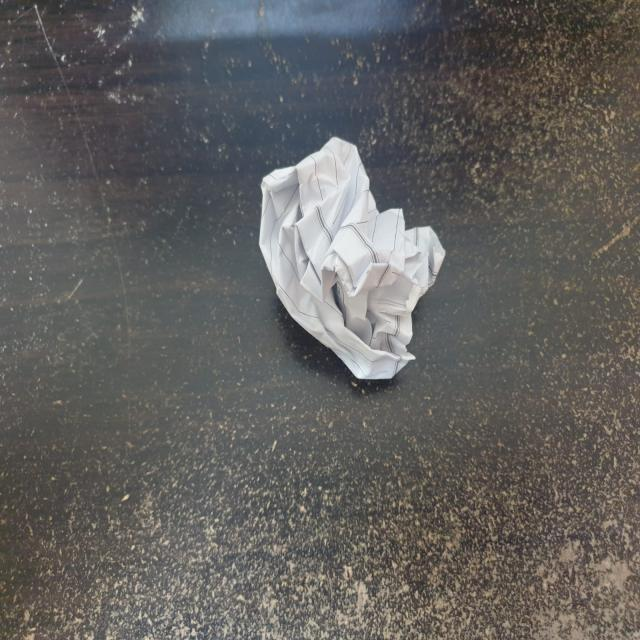Paper: (259, 136, 446, 378)
